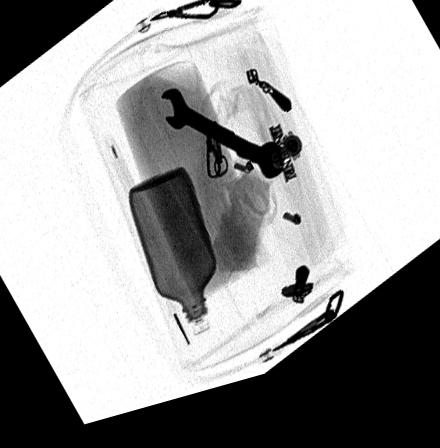Wrench: (157, 95, 286, 197)
